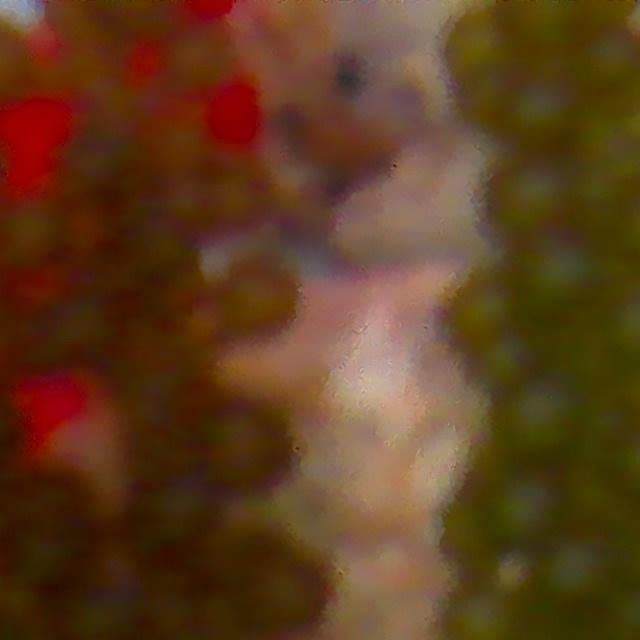SeaGrape: (224, 536, 335, 640), (199, 403, 296, 497), (480, 161, 574, 246), (213, 256, 301, 341), (500, 377, 582, 461), (133, 476, 210, 560), (486, 470, 563, 549), (527, 235, 604, 312), (555, 328, 626, 407), (541, 534, 615, 608), (506, 75, 579, 149), (441, 13, 514, 84), (468, 328, 541, 397), (447, 280, 517, 345), (572, 117, 639, 184), (565, 474, 634, 538), (0, 203, 62, 273), (62, 590, 142, 640), (441, 587, 516, 640), (165, 30, 228, 92), (452, 69, 515, 130), (580, 26, 640, 90), (54, 295, 115, 357), (507, 0, 583, 48), (441, 501, 495, 568), (206, 173, 260, 229), (92, 540, 143, 596), (488, 549, 541, 602)
